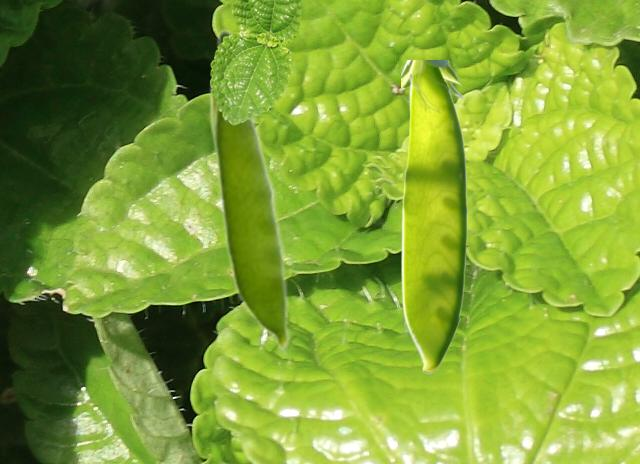pea: (208, 27, 291, 354), (401, 60, 467, 373)
